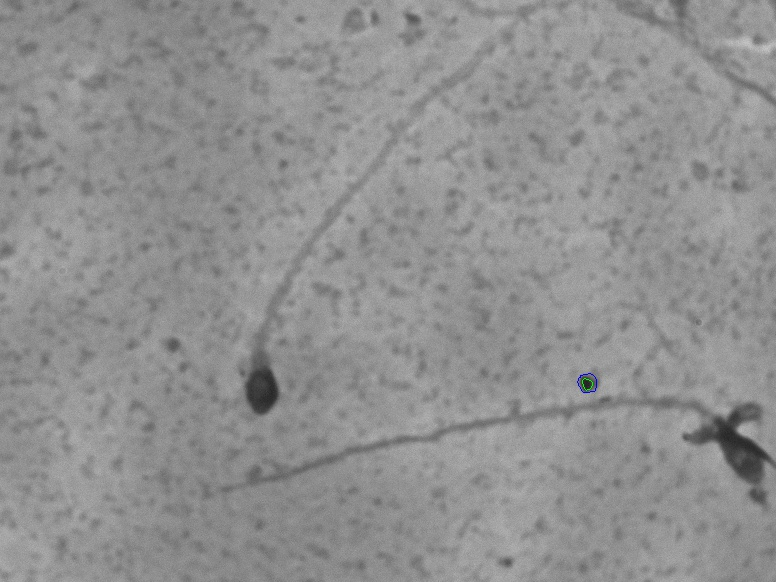Abnormal: (195, 97, 389, 446), (183, 397, 767, 512)
